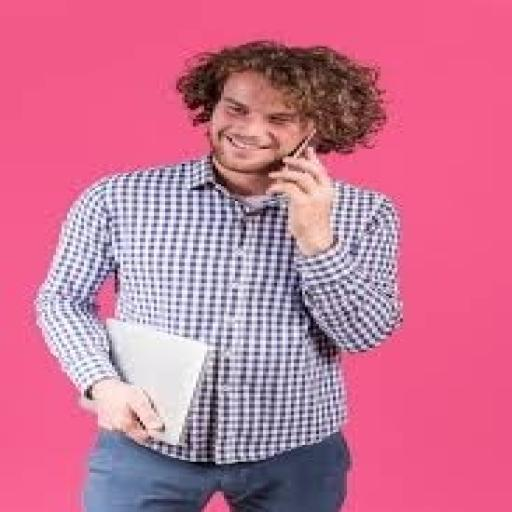calling: (30, 39, 406, 510)
